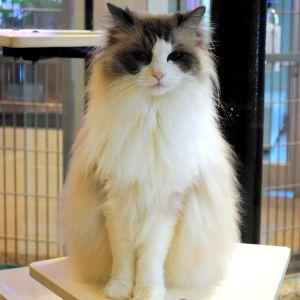ragdoll: (96, 1, 218, 111)
